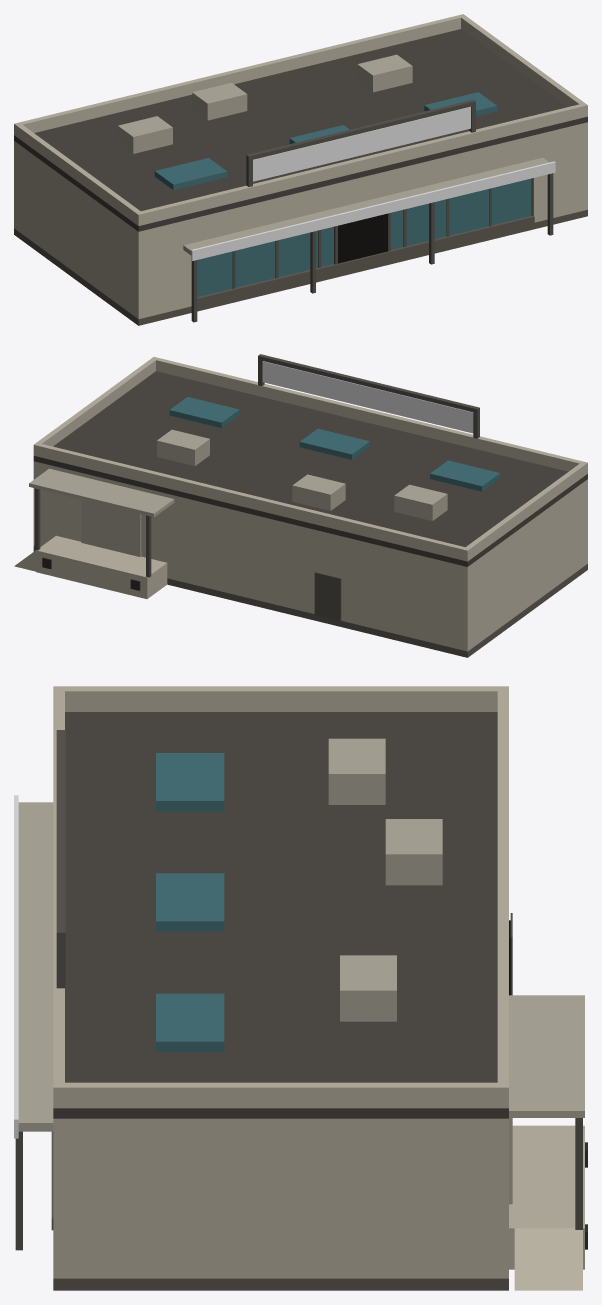
3 renders of one model, top to bottom at view 1: azimuth 30°, elevation 25°; view 2: azimuth 150°, elevation 25°; view 3: azimuth 270°, elevation 25°, orthographic. The views are drawn at different scales.
Parts seen in each view (by area): view 1: site_supermarket_restored; view 2: site_supermarket_restored; view 3: site_supermarket_restored.
Part boxes in pixels (x1,y1,x2,y2): site_supermarket_restored: (14,14,587,325); site_supermarket_restored: (14,354,587,657); site_supermarket_restored: (14,686,587,1290).
Size of the model in its own units: 25 by 7.52 by 15.12.
